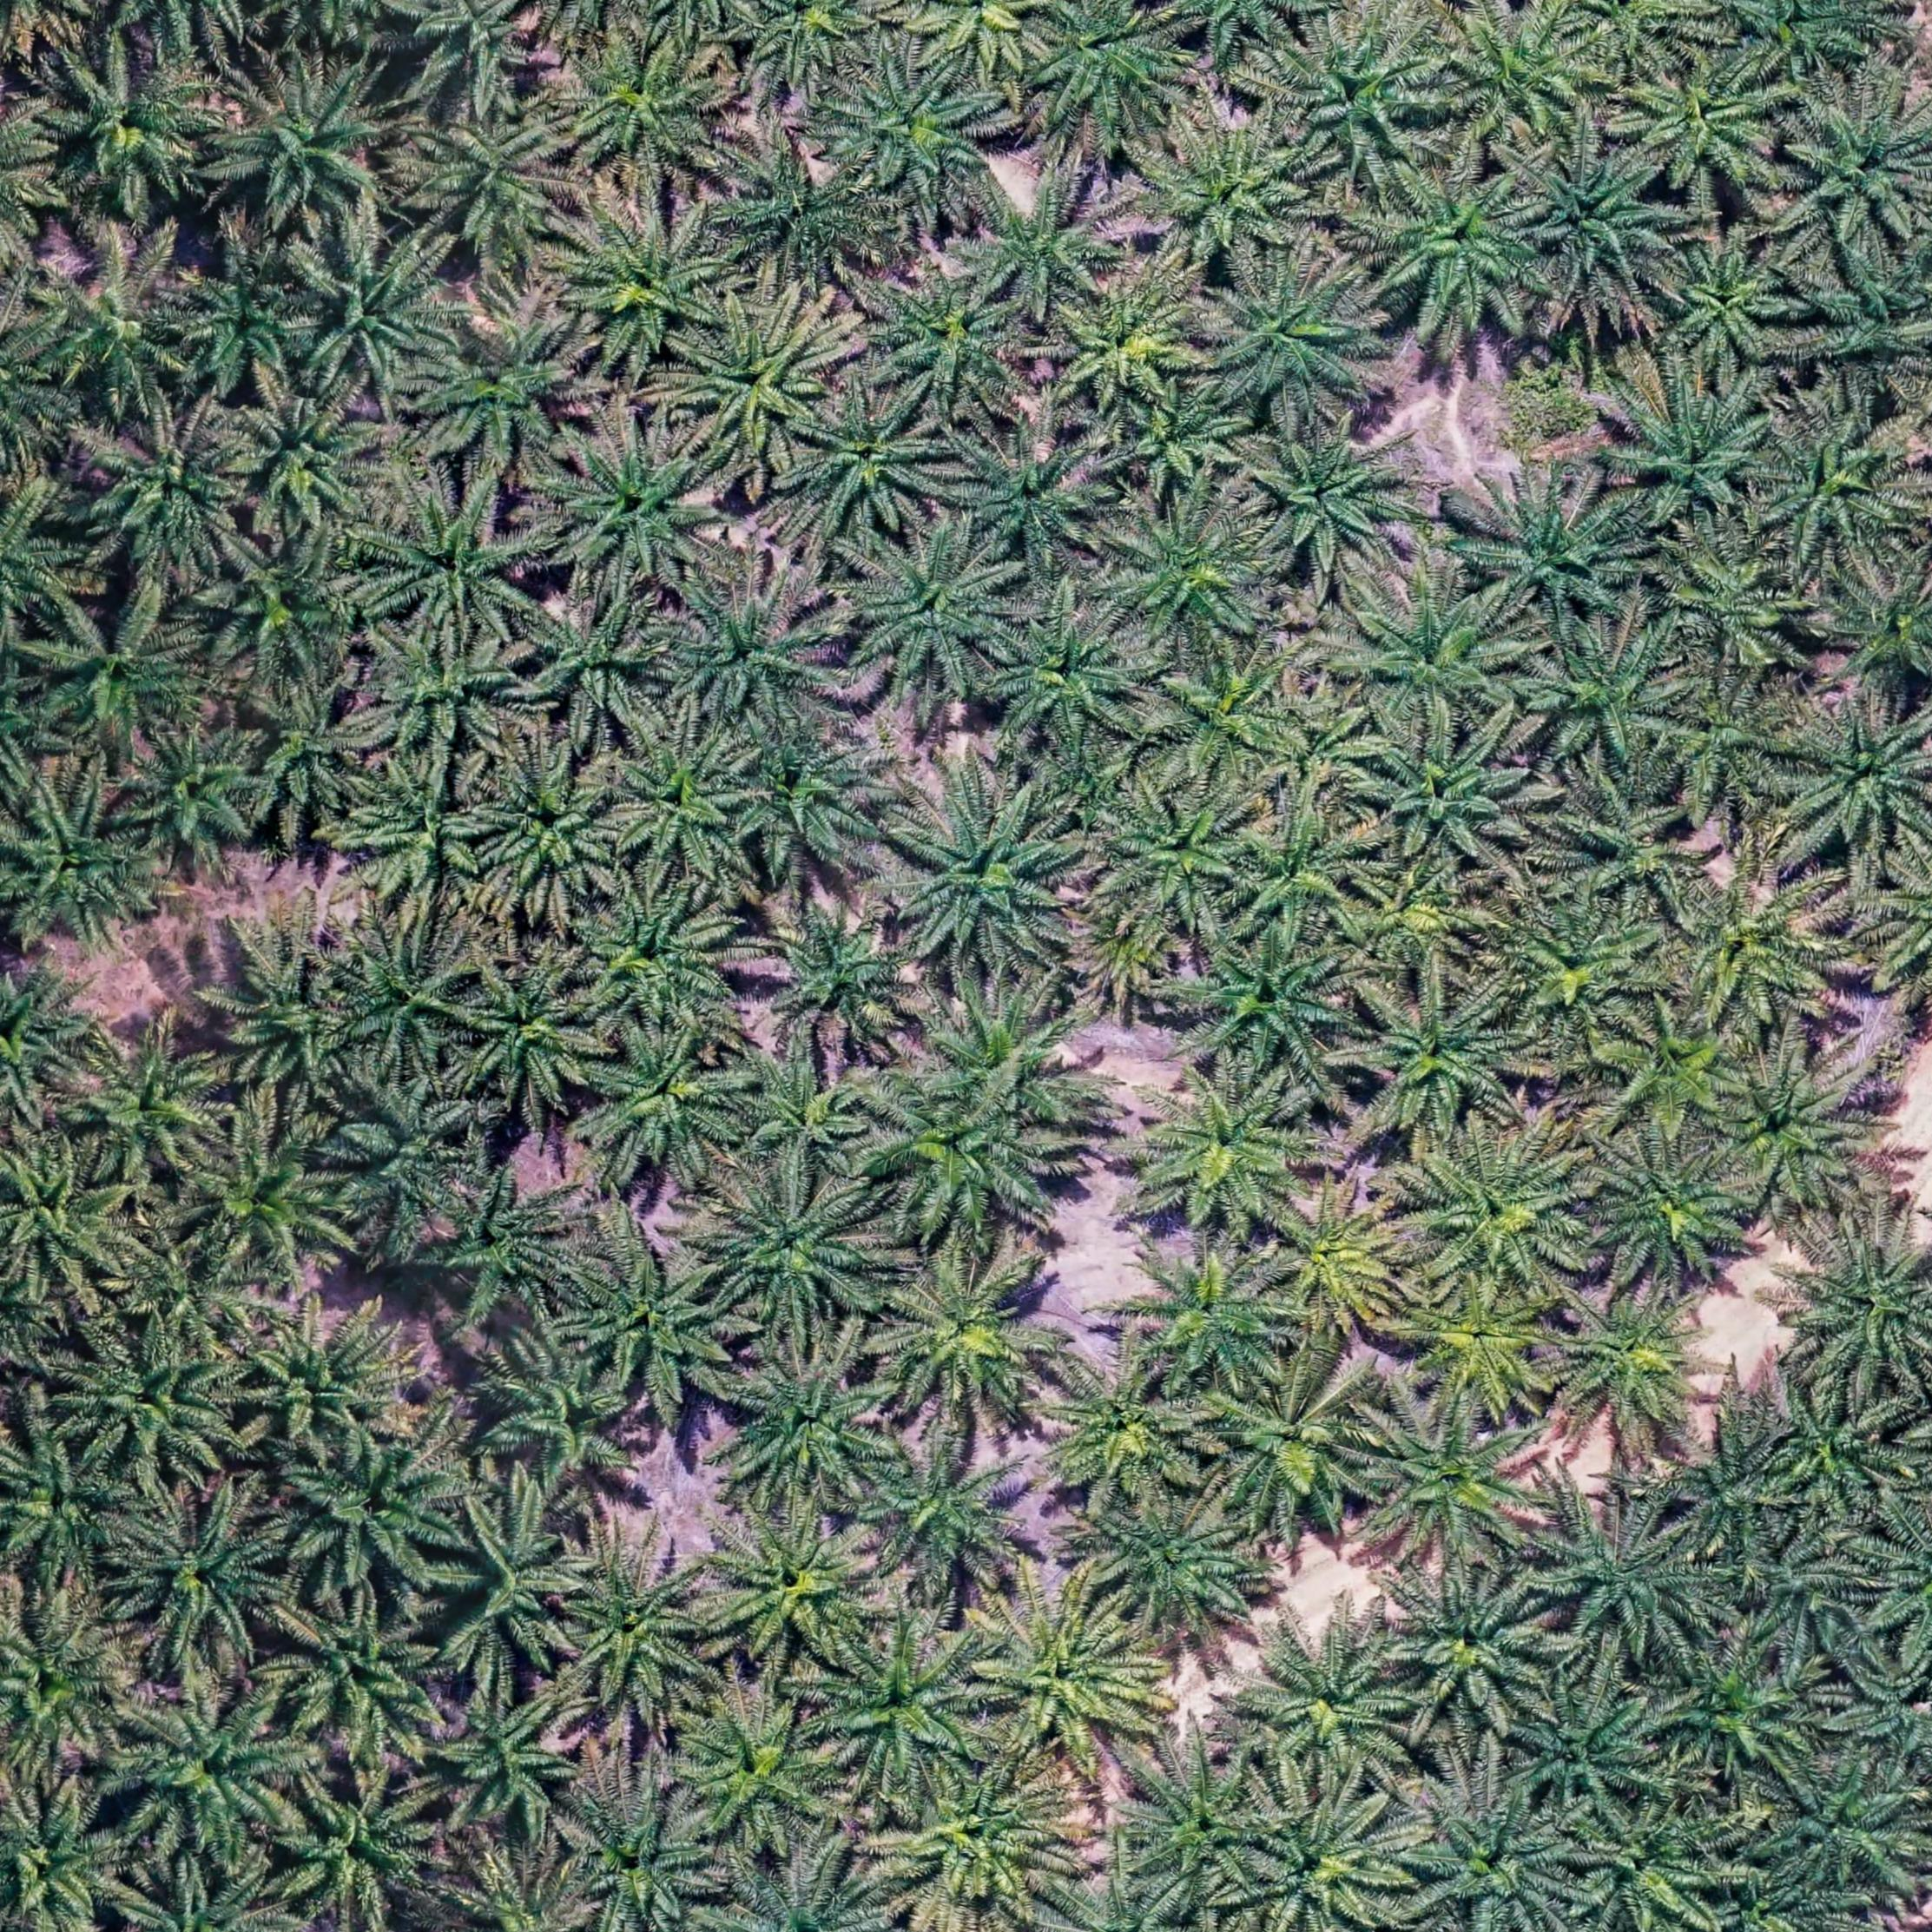palmtree: (207, 46, 419, 237), (110, 1679, 313, 1868), (860, 1070, 1081, 1244), (886, 777, 1083, 971), (32, 35, 234, 219), (265, 1424, 471, 1603), (1394, 1123, 1599, 1300), (548, 1529, 731, 1721), (110, 1488, 301, 1670), (971, 1587, 1162, 1769), (874, 1249, 1067, 1428), (1200, 1350, 1389, 1530), (1129, 1067, 1323, 1242), (656, 564, 851, 736), (80, 410, 265, 589), (182, 1108, 368, 1286), (1652, 862, 1842, 1037), (265, 1591, 453, 1766), (881, 1753, 1076, 1921), (281, 225, 465, 402), (547, 425, 734, 596), (1369, 161, 1557, 333), (57, 1322, 249, 1488), (906, 980, 1109, 1138), (1709, 1037, 1890, 1214), (559, 203, 743, 377), (361, 474, 550, 642), (421, 303, 603, 476), (1244, 1617, 1428, 1789), (426, 1493, 596, 1679), (809, 1626, 994, 1796), (563, 1240, 748, 1410), (1366, 1399, 1553, 1568), (856, 1428, 1044, 1596), (195, 522, 382, 690), (28, 239, 203, 418), (1345, 977, 1530, 1145), (269, 1759, 455, 1927), (1338, 573, 1530, 734), (847, 529, 1028, 701), (471, 1330, 651, 1502), (409, 103, 589, 274), (671, 295, 853, 465), (699, 1506, 883, 1674), (701, 1169, 886, 1336), (1467, 469, 1654, 633), (232, 1300, 421, 1461), (423, 1679, 598, 1852), (2, 773, 170, 954), (1201, 257, 1385, 421), (725, 1336, 904, 1504), (35, 586, 214, 754), (1141, 115, 1327, 276), (1177, 924, 1364, 1083), (1246, 423, 1428, 586), (1279, 18, 1456, 184), (423, 1166, 594, 1336), (467, 745, 635, 918), (1548, 1284, 1723, 1451), (727, 713, 901, 879), (672, 1697, 849, 1859), (570, 876, 750, 1035), (1536, 1502, 1718, 1660), (550, 30, 736, 184), (750, 893, 929, 1053), (579, 1019, 752, 1182), (1035, 1346, 1212, 1506), (823, 50, 1000, 209), (1122, 1237, 1299, 1396), (1014, 0, 1192, 156), (64, 1023, 234, 1185), (1355, 717, 1534, 870), (1092, 778, 1265, 936), (1610, 375, 1785, 531), (1104, 497, 1279, 653), (863, 260, 1040, 414), (226, 382, 398, 540), (1403, 1783, 1583, 1932), (340, 755, 506, 916), (1755, 412, 1923, 571), (0, 1596, 145, 1780), (1621, 51, 1794, 205), (948, 423, 1123, 575), (1522, 626, 1697, 778), (1394, 1279, 1573, 1428), (1391, 1562, 1559, 1720), (219, 941, 375, 1111), (1545, 770, 1714, 924), (557, 1782, 731, 1932), (787, 387, 955, 541), (1591, 1136, 1760, 1288), (984, 598, 1157, 747), (166, 239, 324, 402), (1085, 1493, 1263, 1637), (966, 166, 1136, 317), (329, 1079, 488, 1238), (1233, 1789, 1410, 1932), (1495, 893, 1663, 1044), (1787, 1217, 1932, 1391), (359, 623, 536, 764), (1780, 90, 1932, 255), (0, 1422, 147, 1592), (603, 729, 763, 885), (1780, 697, 1932, 860), (1518, 145, 1683, 295), (720, 140, 890, 285), (1042, 271, 1214, 414), (513, 589, 678, 738), (455, 957, 612, 1111), (1123, 1746, 1277, 1904), (741, 0, 915, 140), (1438, 11, 1605, 154), (1656, 1638, 1822, 1782), (0, 1134, 142, 1302), (334, 918, 492, 1069), (1265, 1184, 1422, 1334), (1764, 1759, 1927, 1900), (0, 1773, 145, 1927), (729, 1042, 888, 1182), (239, 679, 389, 826), (124, 724, 274, 869), (1601, 1001, 1755, 1139), (1155, 653, 1309, 791), (1338, 849, 1493, 985), (113, 1223, 269, 1359), (1652, 234, 1806, 370), (1230, 803, 1378, 943), (1580, 1806, 1743, 1932), (1801, 242, 1932, 398), (1661, 543, 1813, 676), (386, 0, 557, 113), (1513, 1688, 1661, 1817), (1660, 1424, 1798, 1557), (1663, 679, 1805, 809), (0, 955, 103, 1132), (1767, 1387, 1905, 1516), (1113, 379, 1253, 504), (711, 1849, 913, 1930), (1821, 564, 1932, 706), (1741, 1532, 1868, 1656), (0, 472, 90, 640), (1261, 695, 1384, 814), (1723, 0, 1900, 81), (110, 1859, 301, 1932), (893, 0, 1042, 90), (1838, 1642, 1932, 1767)
